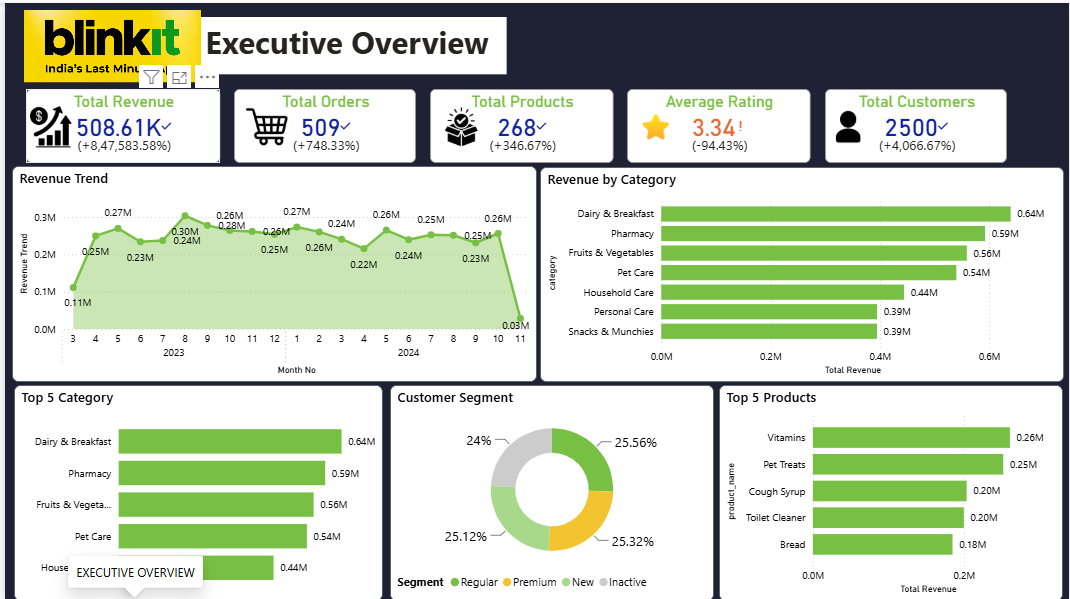

This screenshot's page, from the dashboard's own definition file:
{"tool":"powerbi","page":{"name":"EXECUTIVE OVERVIEW","canvas":[1280,720],"ordinal":0},"visuals":[{"type":"donutChart","title":"Customer Segment","fields":{"Y":["CountNonNull(customers_clean.customer_id)"],"Category":["customers_clean.customer_segment"]},"box":[463.5,459.9,390.1,260.1],"z":0},{"type":"clusteredBarChart","title":"Top 5 Category","fields":{"Category":["products_clean.category"],"Y":["order_items_clean.Total Revenue"]},"box":[10.8,459.9,444.3,260.1],"z":1000},{"type":"barChart","title":"Top 5 Products","fields":{"Category":["products_clean.product_name"],"Y":["order_items_clean.Total Revenue"]},"box":[859.7,459.9,414.2,260.1],"z":2000},{"type":"image","box":[0,8.4,258.9,86.7],"z":3000},{"type":"textbox","box":[236,16.9,368.4,68.6],"z":4000},{"type":"lineChart","title":"Revenue Trend","fields":{"Category":["Dim Calendar.Year","Dim Calendar.Month No"],"Y":["order_items_clean.Revenue Trend"]},"box":[7.9,195.8,632,260.1],"z":5000},{"type":"clusteredBarChart","title":"Revenue by Category","fields":{"Category":["products_clean.category"],"Y":["order_items_clean.Total Revenue"]},"box":[643.8,197.1,630.7,258.8],"z":6000},{"type":"kpi","title":"Total Revenue","fields":{"Indicator":["order_items_clean.Total Revenue"],"TrendLine":["Date Table.Month Name"],"Goal":["CountNonNull(Dim Calendar.Year)"]},"box":[25,103.8,233.9,89.3],"z":7000},{"type":"kpi","title":"Total Orders","fields":{"Indicator":["orders_clean.Total Orders"],"TrendLine":["Date Table.Month Name"],"Goal":["CountNonNull(Dim Calendar.Year)"]},"box":[275.4,103.8,219.4,89.3],"z":8000},{"type":"kpi","title":"Total Products","fields":{"Indicator":["products_clean.Total Products"],"TrendLine":["Date Table.Month Name"],"Goal":["CountNonNull(Dim Calendar.Year)"]},"box":[511.4,103.8,220.7,89.3],"z":9000},{"type":"kpi","title":"Average Rating","fields":{"Indicator":["customer_feedback_clean.Average Rating"],"TrendLine":["Date Table.Month Name"],"Goal":["CountNonNull(Dim Calendar.Year)"]},"box":[749.2,103.8,220.7,89.3],"z":10000},{"type":"kpi","title":"Total Customers","fields":{"Indicator":["customers_clean.Total Customers"],"TrendLine":["Date Table.Month Name"],"Goal":["CountNonNull(Dim Calendar.Year)"]},"box":[987,103.8,219.4,89.3],"z":11000},{"type":"image","box":[30.2,123.5,49.9,49.9],"z":12000},{"type":"image","box":[289.9,123.5,49.9,49.9],"z":13000},{"type":"image","box":[524.5,123.5,48.6,49.9],"z":14000},{"type":"image","box":[765,123.5,38.1,49.9],"z":15000},{"type":"image","box":[996.2,123.5,39.4,49.9],"z":16000}]}

Visuals, with their boxes in screenshot pixels (x1, y1, x2, y2), scaled from the page's 1280x720 canvas onto the 1070x599 screenshot:
"Customer Segment" donutChart: l=387, t=383, r=714, b=598
"Top 5 Category" clusteredBarChart: l=9, t=383, r=380, b=598
"Top 5 Products" barChart: l=719, t=383, r=1065, b=598
image: l=0, t=7, r=216, b=79
textbox: l=197, t=14, r=505, b=71
"Revenue Trend" lineChart: l=7, t=163, r=535, b=379
"Revenue by Category" clusteredBarChart: l=538, t=164, r=1065, b=379
"Total Revenue" kpi: l=21, t=86, r=216, b=161
"Total Orders" kpi: l=230, t=86, r=414, b=161
"Total Products" kpi: l=427, t=86, r=612, b=161
"Average Rating" kpi: l=626, t=86, r=811, b=161
"Total Customers" kpi: l=825, t=86, r=1008, b=161
image: l=25, t=103, r=67, b=144
image: l=242, t=103, r=284, b=144
image: l=438, t=103, r=479, b=144
image: l=639, t=103, r=671, b=144
image: l=833, t=103, r=866, b=144
